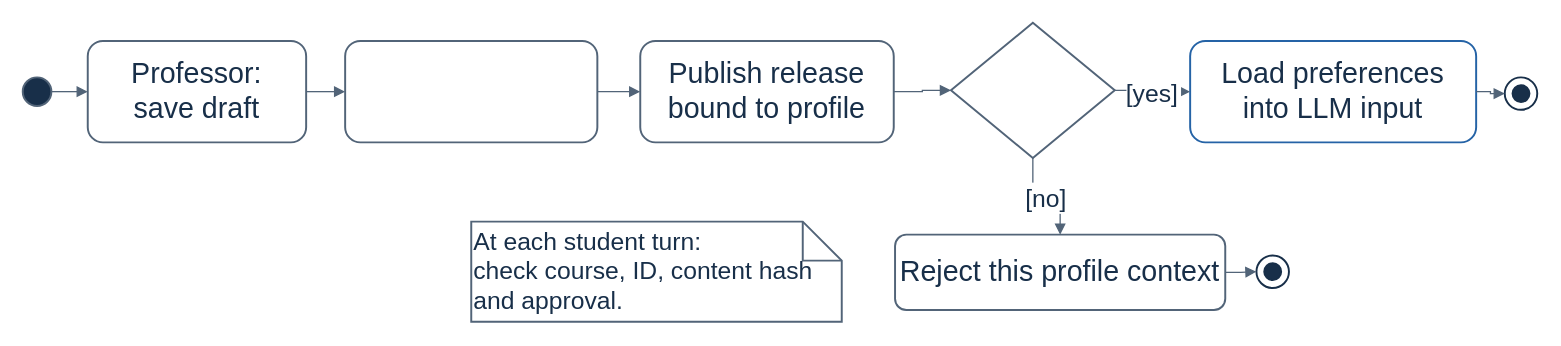
The diagram is 1561 pixels wide and 346 high, and some of its shapes have lost their labels. The shapes that lost their labels are listed below. From the top down, each one's centre as x and y in pixels, then its label:
At point (471, 91): "Review preview; approve its hash".
At point (1032, 89): "Binding valid?".
